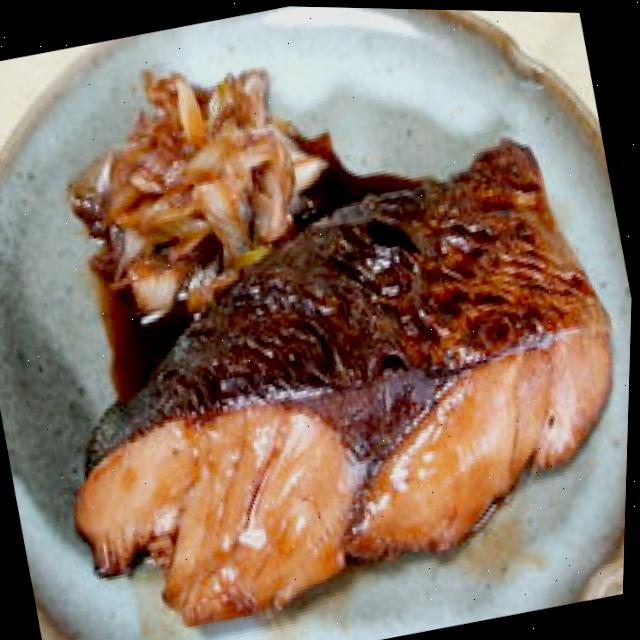熟制海鲜: (7, 81, 638, 640)
